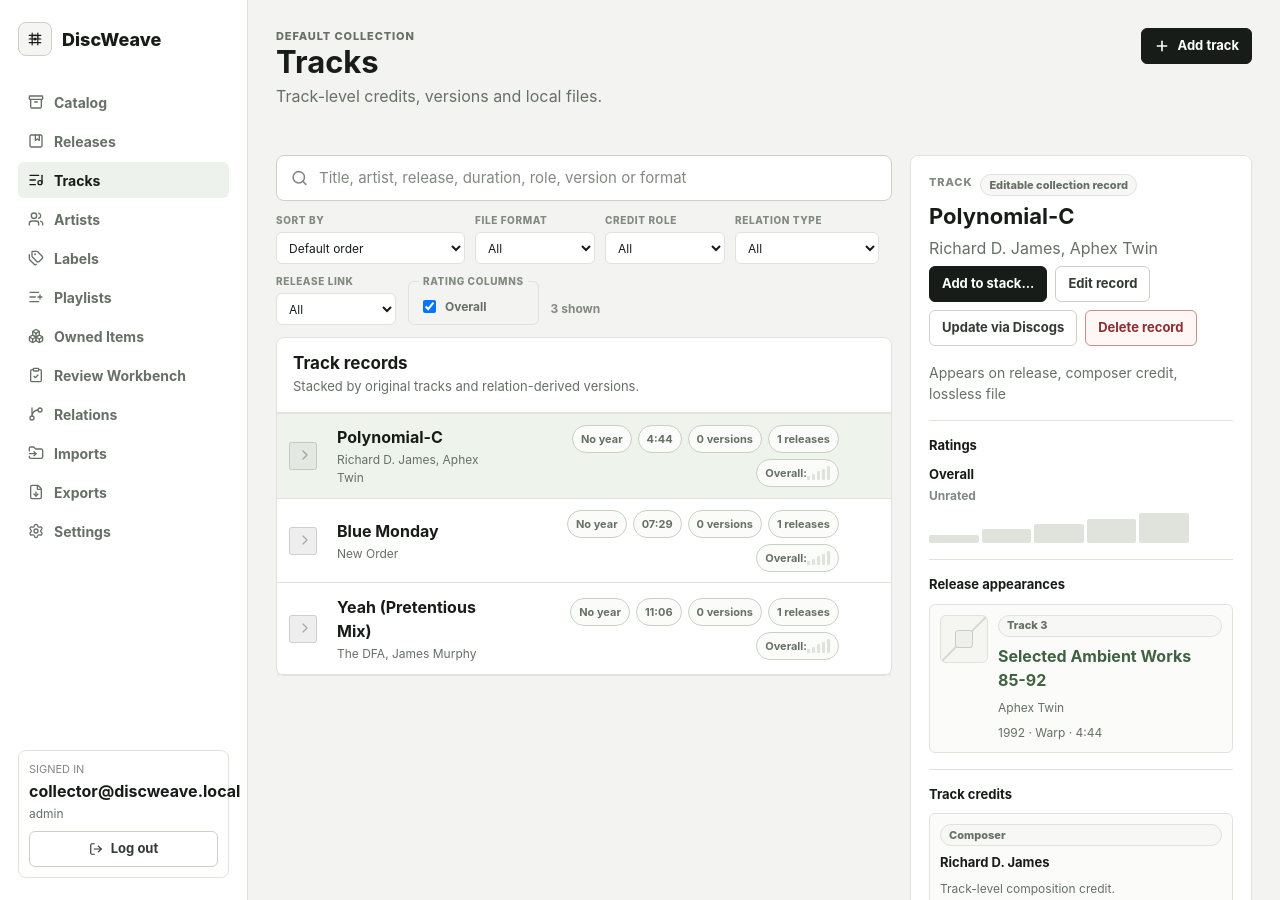
Test: App edit stale link handling › allows duplicate-titled manual tracks in one session
Click the button "Add track" at (1196, 46), box [1140,28,1252,64]
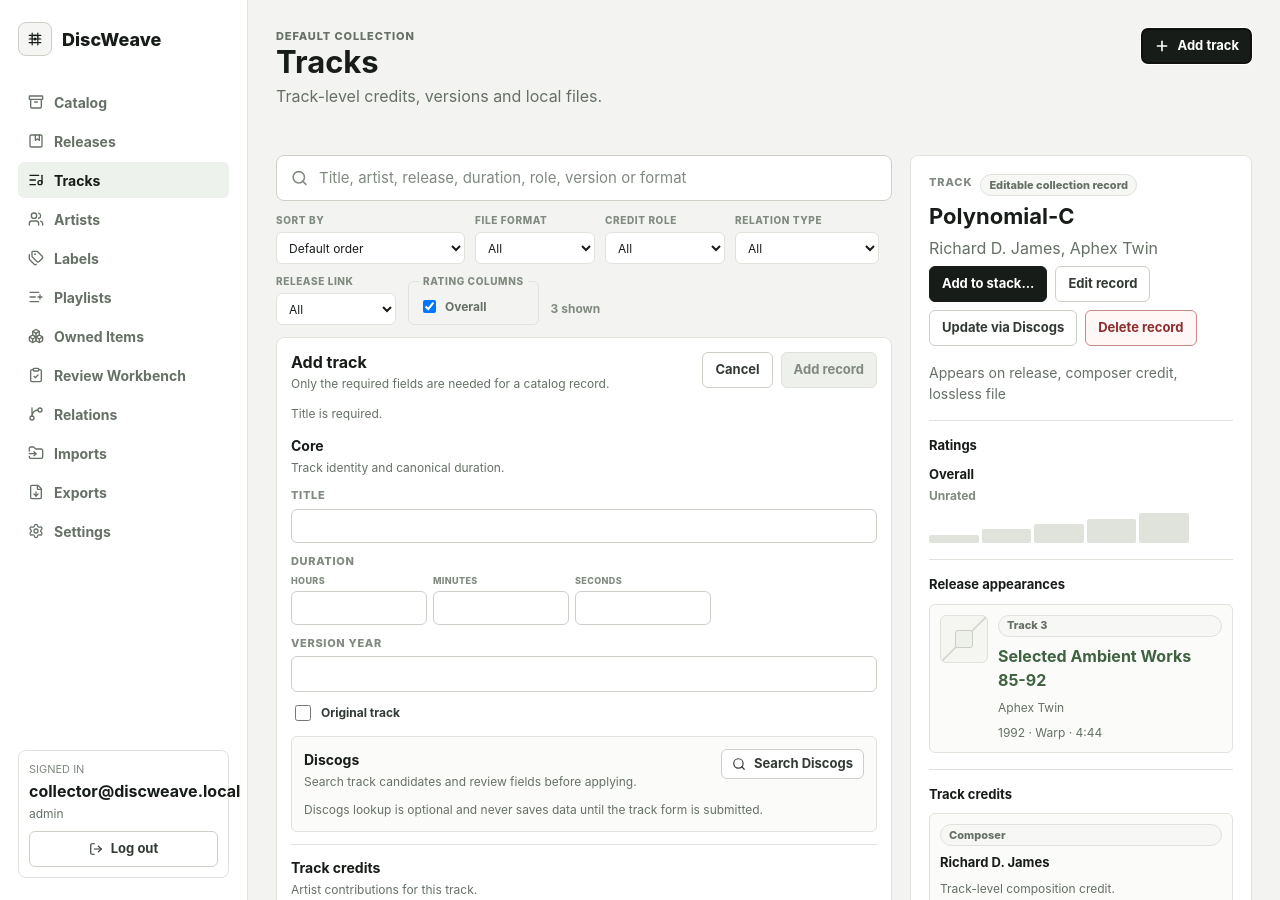
Type "Same Title" into the field labelled "Title" at (584, 526), box [291,509,877,543]
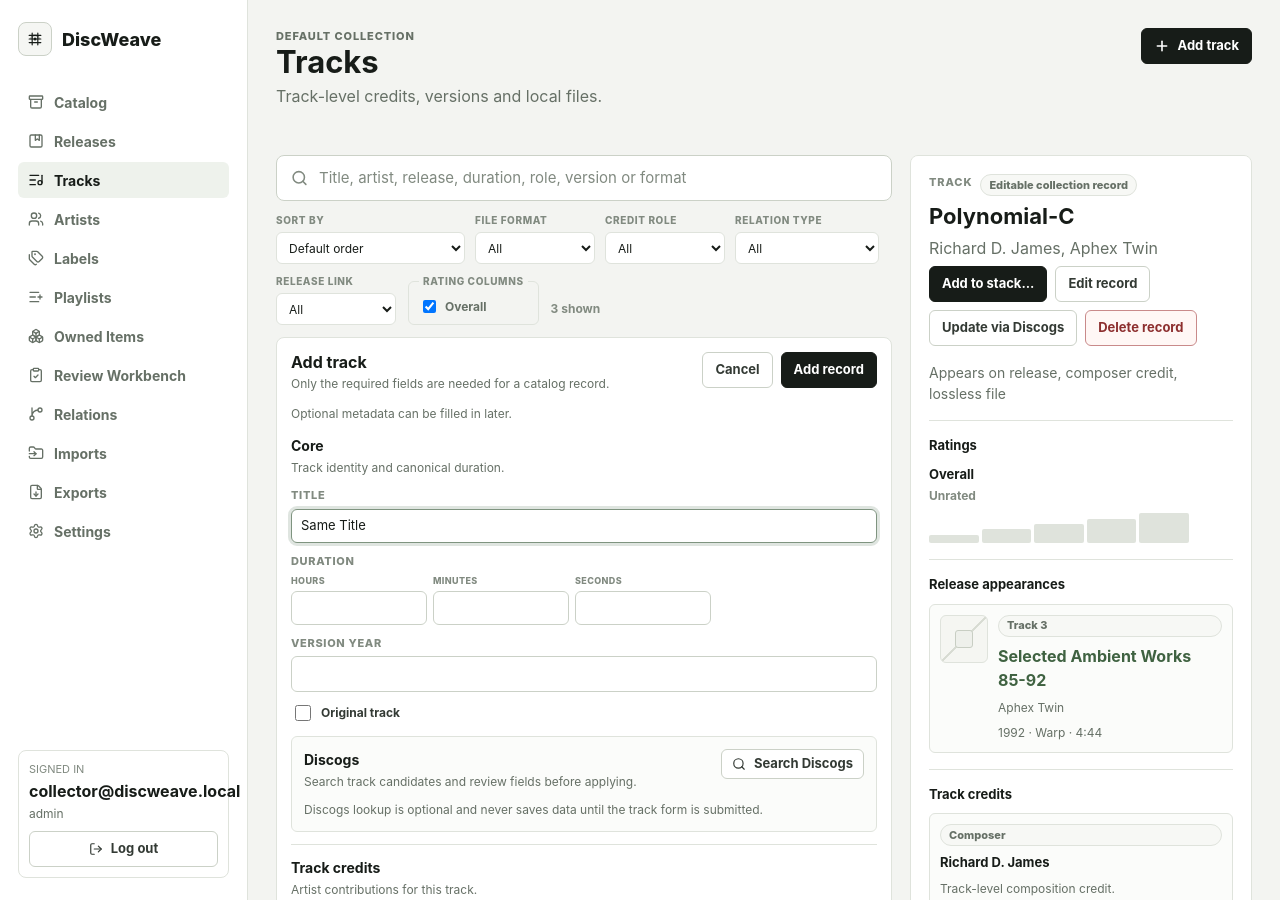
Click the button "Add record" at (829, 370), box [781,352,877,388]
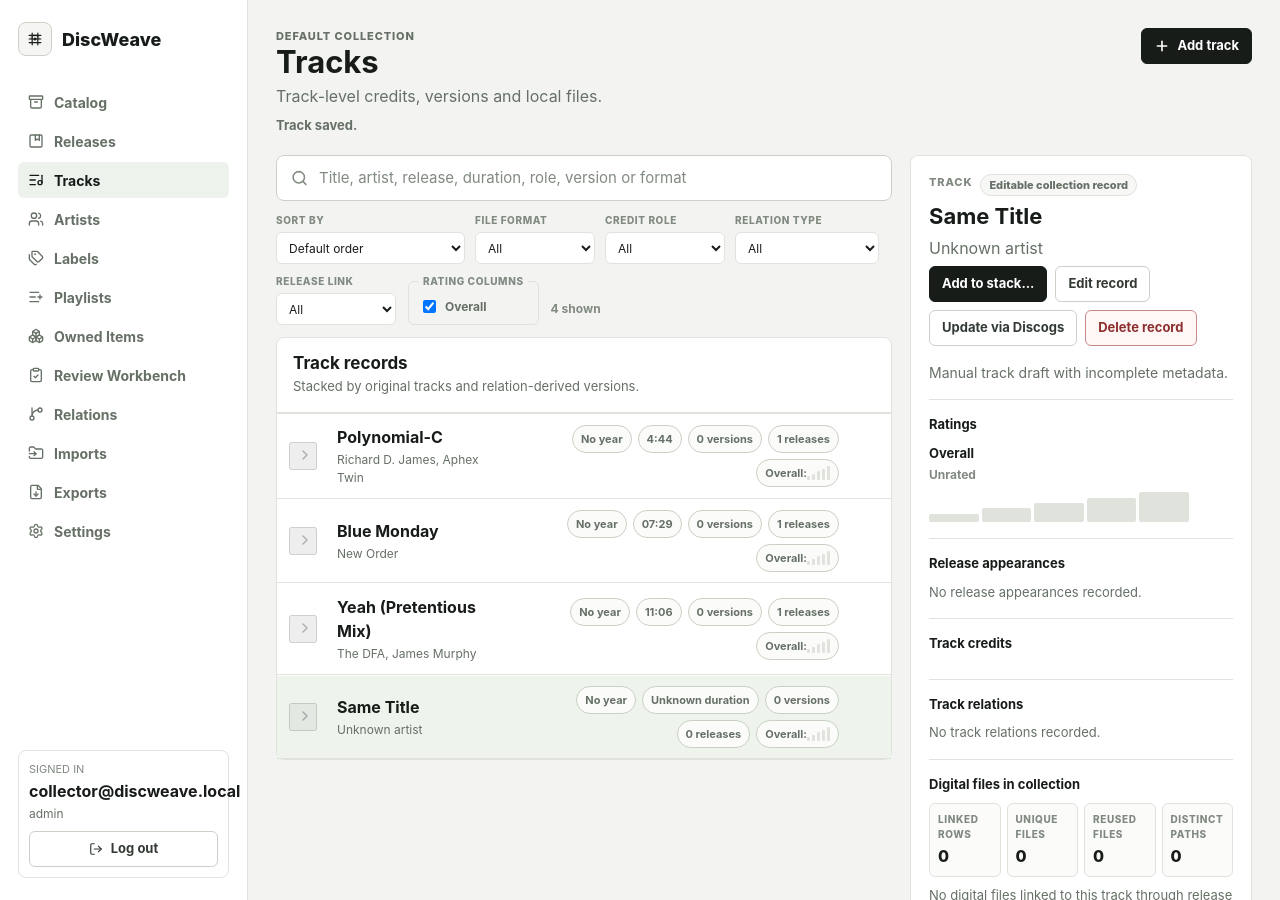
Click the button "Add track" at (1196, 46), box [1140,28,1252,64]
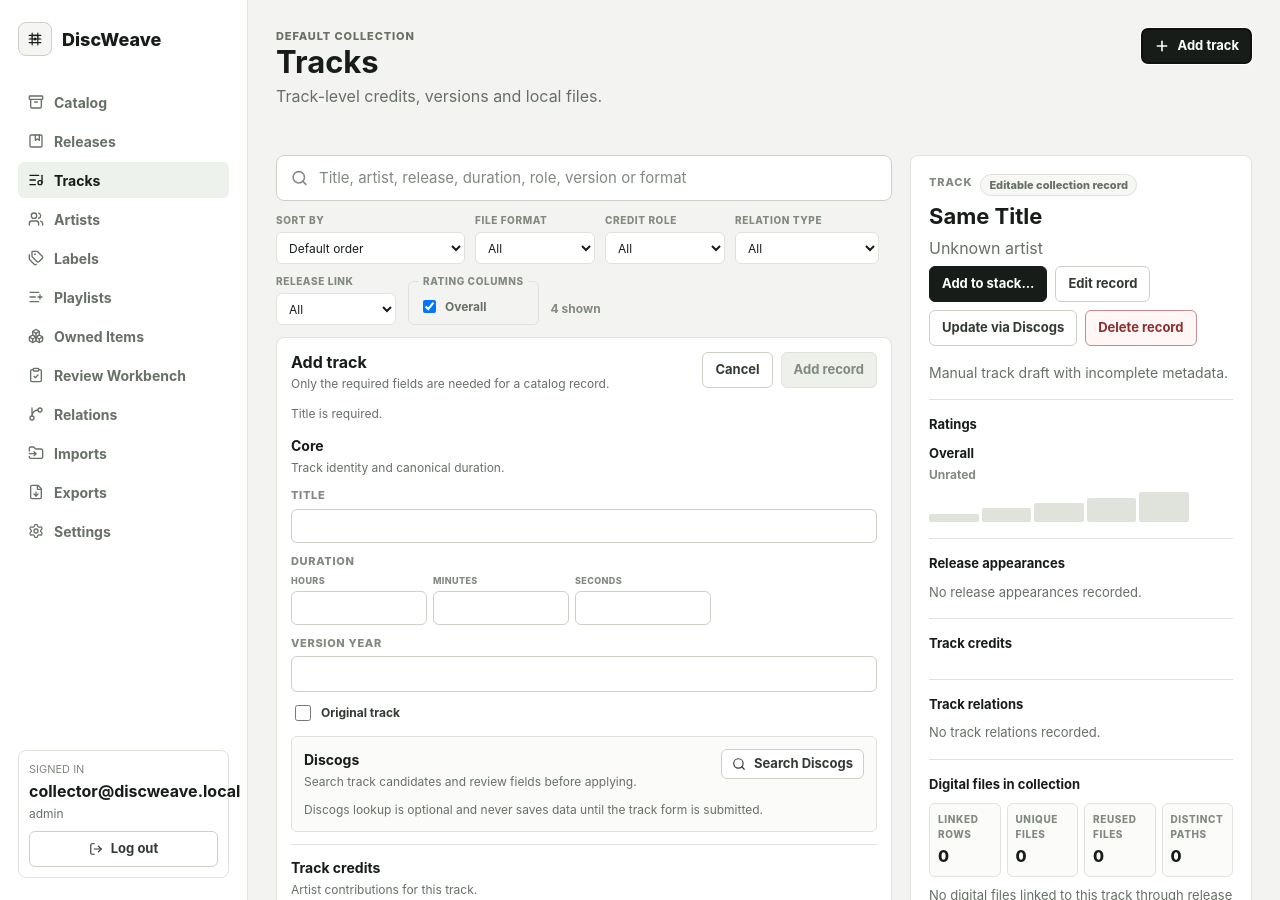
Type "Same Title" into the field labelled "Title" at (584, 526), box [291,509,877,543]
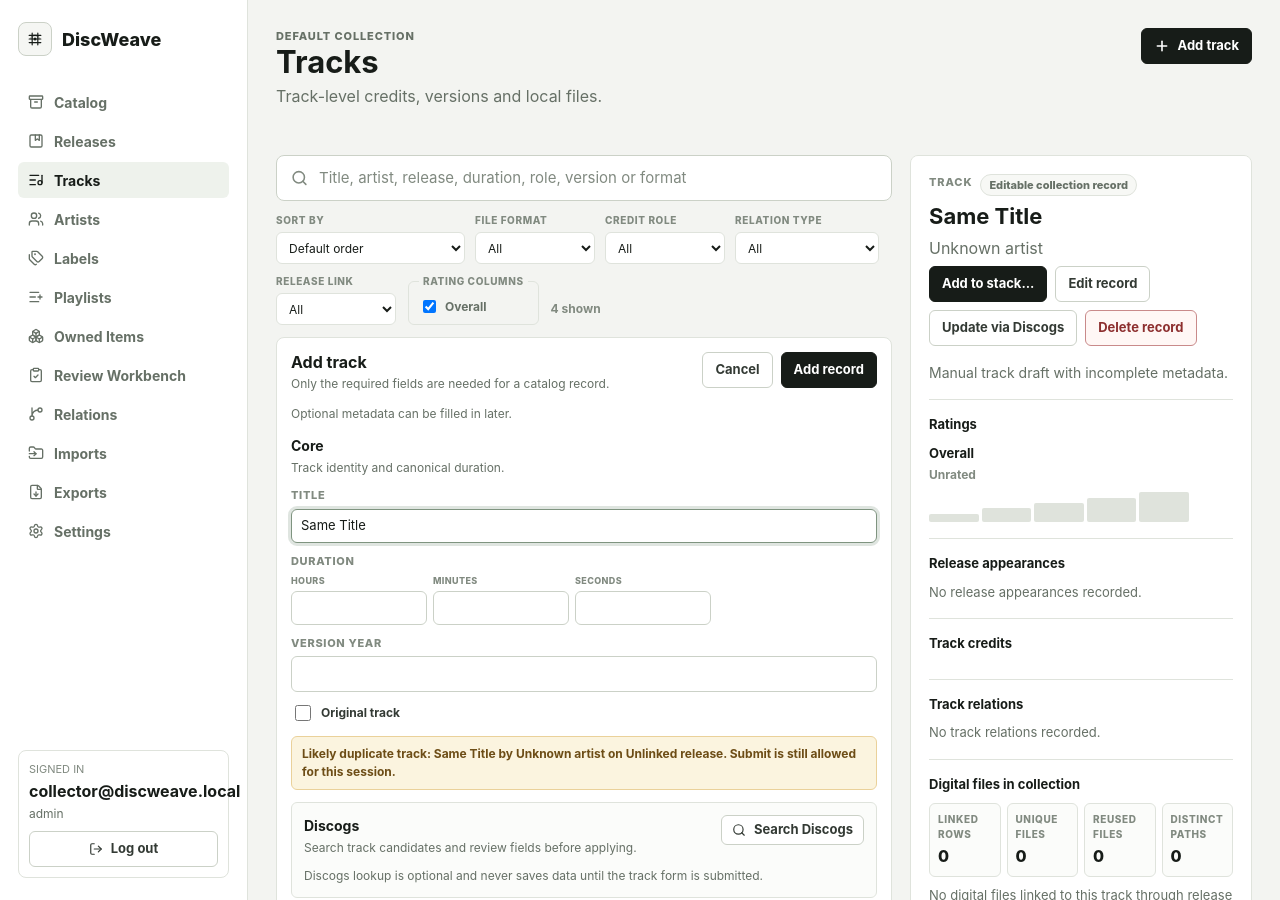
Click the button "Add record" at (829, 370), box [781,352,877,388]
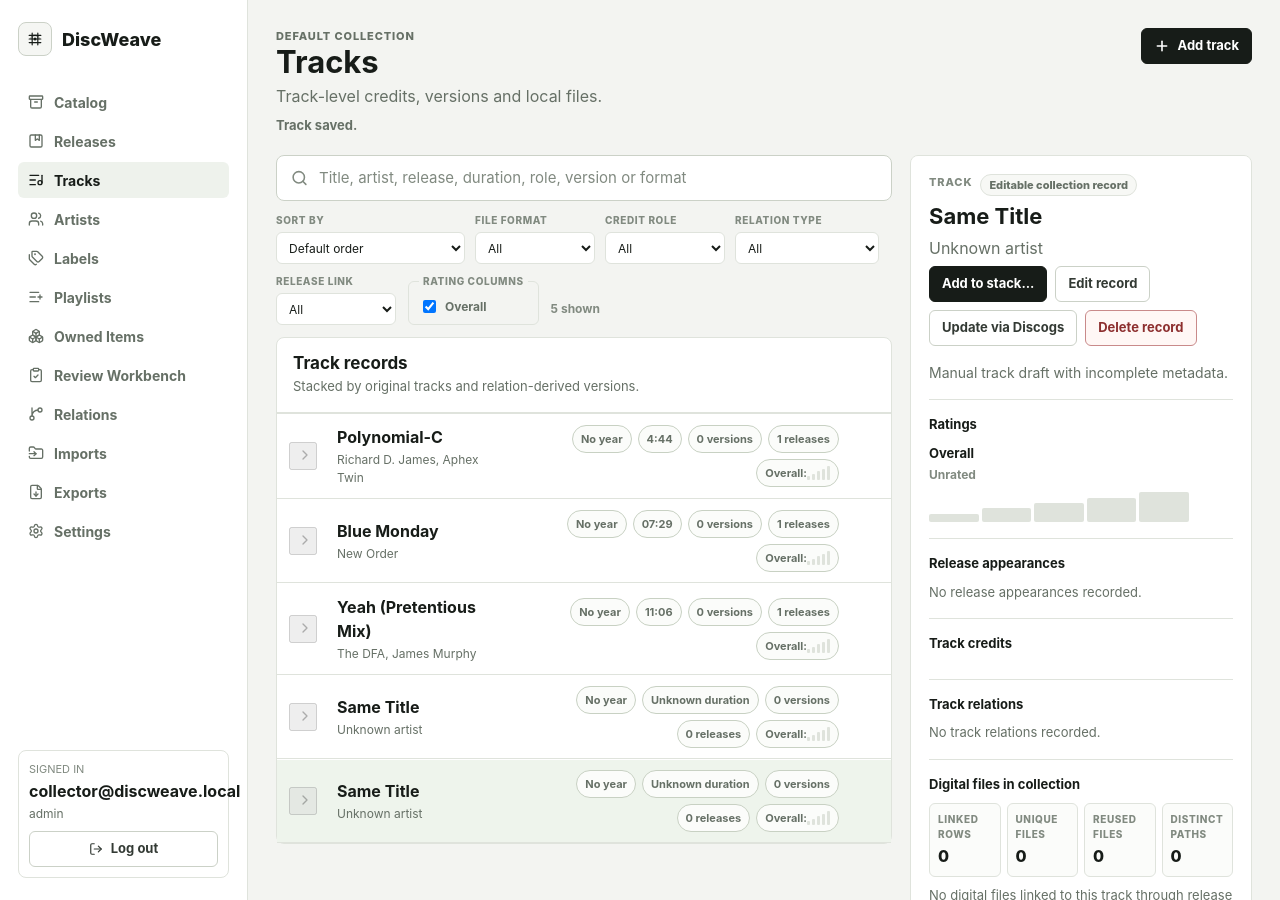
Check: the number of list items "Same Title" is 2, box [277,676,891,759]; [277,760,891,843]
